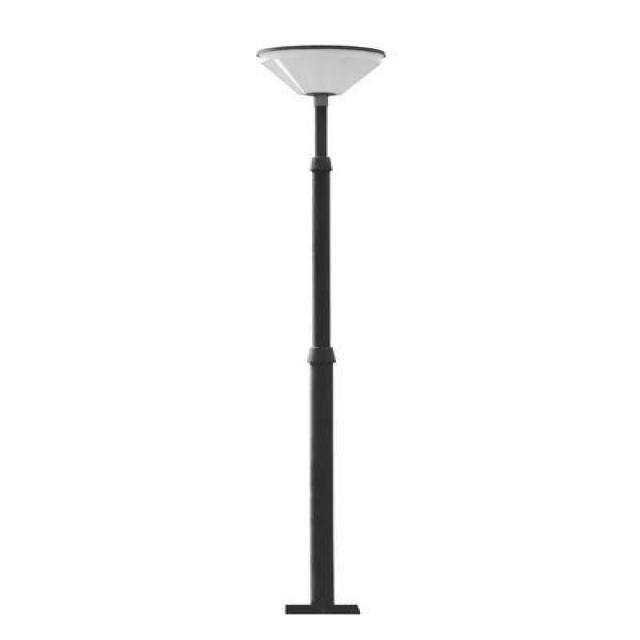Pole: (258, 45, 386, 615)
